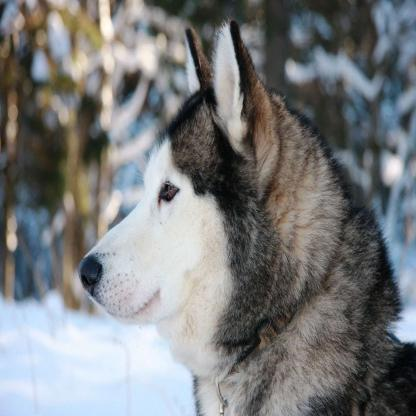husky: (78, 22, 416, 416)
